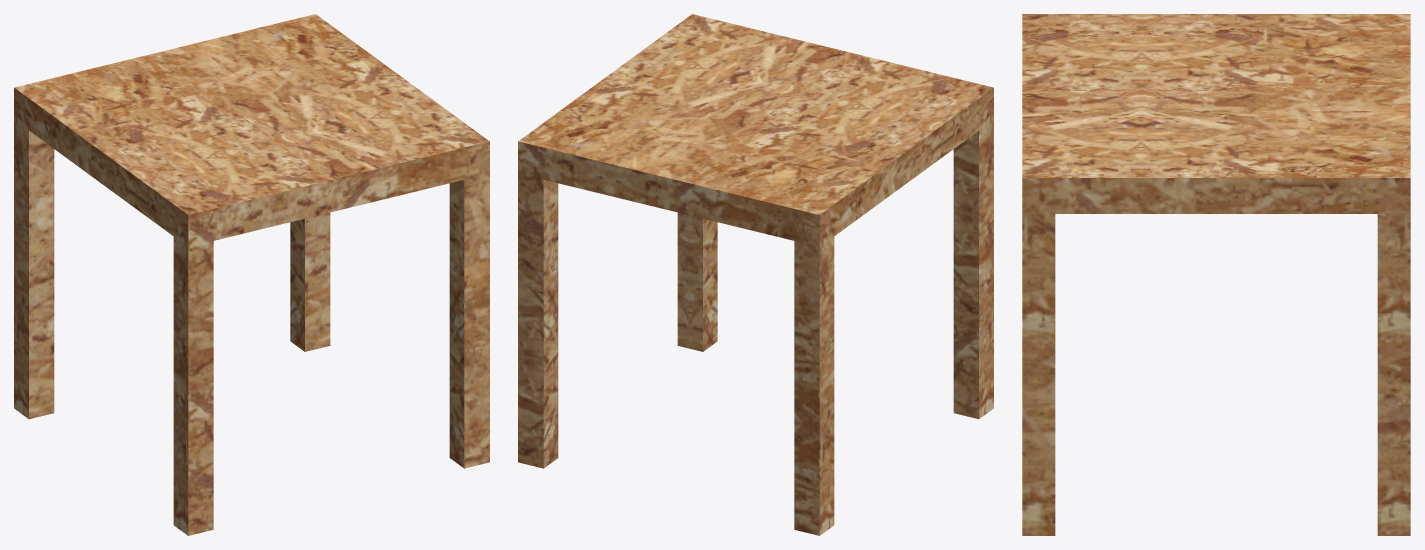
Rendered from nist_elevated_floor_120.dae.
The picture shows the model from 3 angles, left to right: view 1: azimuth 30°, elevation 25°; view 2: azimuth 150°, elevation 25°; view 3: azimuth 270°, elevation 25°; orthographic projection. The views are drawn at different scales.
Parts seen in each view (by area): view 1: Cube; view 2: Cube; view 3: Cube.
Part boxes in pixels (<box>): Cube: <box>14,14,489,535</box>; Cube: <box>518,14,993,535</box>; Cube: <box>1022,14,1410,535</box>.
Bounding box in the file's own units: 1.18 × 1.18 × 1.2.
1 material, 1 textured.
